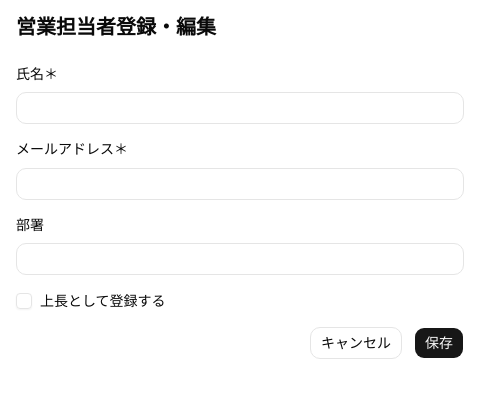
Test case: SalesPersonForm (create mode) › rejects submission when name and email are empty (TC-SCR07-01)
Click the button "保存": {"x": 439, "y": 343} [414,327,464,359]
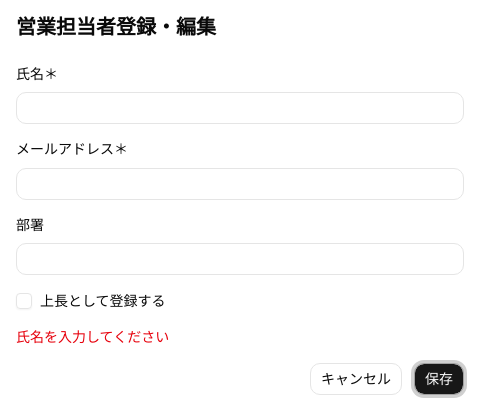
Expected: the text "氏名を入力してください" is shown, [16,328,169,346]
